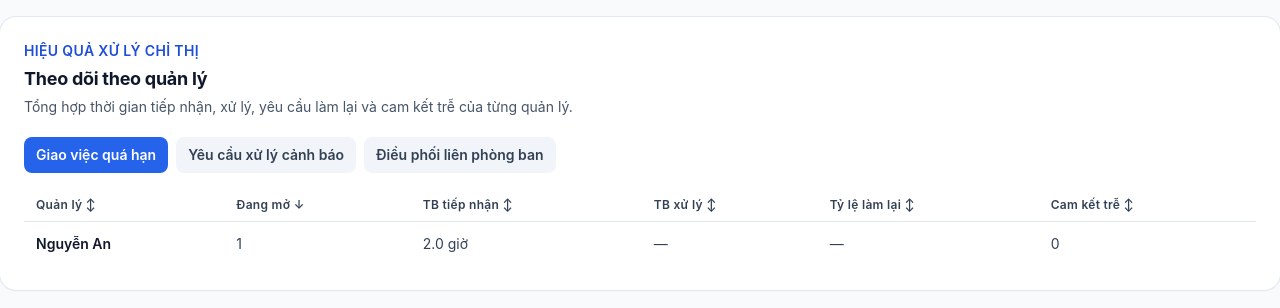
Test case: ManagerDirectiveSlaCard › shows three source tabs and lifecycle metrics for leadership
Check: the text "Nguyễn An" is shown, box left=24, top=222, right=224, bottom=266
Check: the tab "Điều phối liên phòng ban" is shown, box left=364, top=137, right=556, bottom=173
Click the tab "Yêu cầu xử lý cảnh báo".
click(266, 155)  # box left=176, top=137, right=356, bottom=173
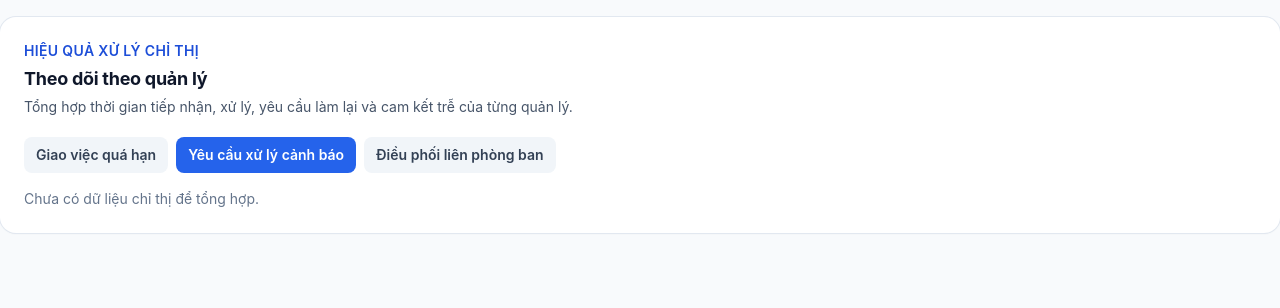
Check: the text "Chưa có dữ liệu chỉ thị để tổng hợp." is shown, box left=24, top=190, right=259, bottom=207
